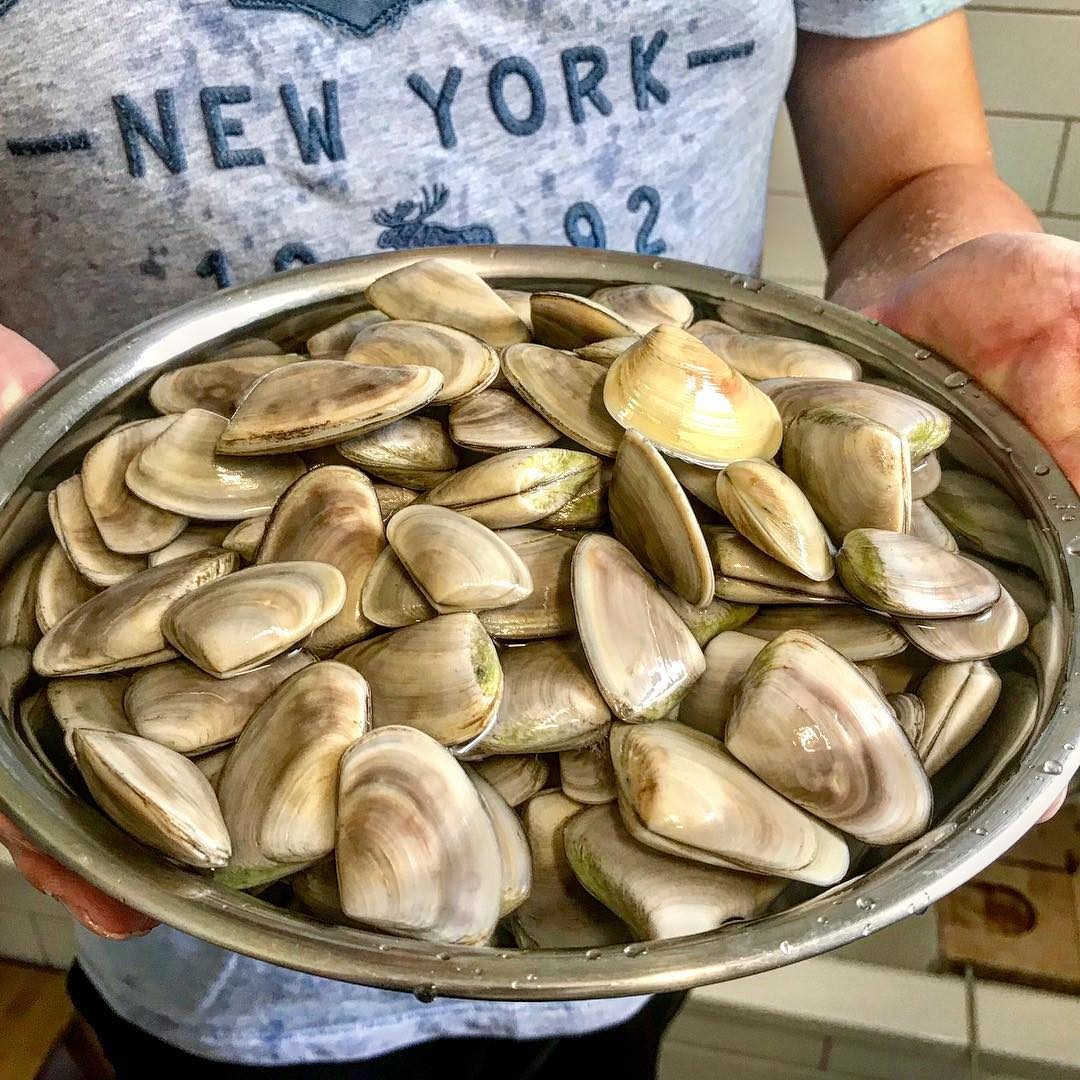tuatua: (718, 629, 926, 844), (609, 716, 853, 874), (340, 725, 498, 947), (212, 660, 364, 885), (557, 799, 760, 925), (601, 322, 781, 461), (569, 532, 705, 715), (70, 719, 235, 865), (263, 457, 380, 649), (164, 551, 349, 670), (36, 544, 212, 667), (350, 609, 497, 744), (219, 360, 443, 447), (611, 427, 718, 608), (132, 403, 298, 518), (384, 503, 533, 618), (790, 409, 912, 539), (845, 527, 1008, 619), (500, 336, 618, 458), (419, 447, 597, 526), (367, 256, 524, 341), (721, 454, 831, 574), (347, 320, 498, 399), (498, 641, 605, 749), (921, 664, 1008, 768)
